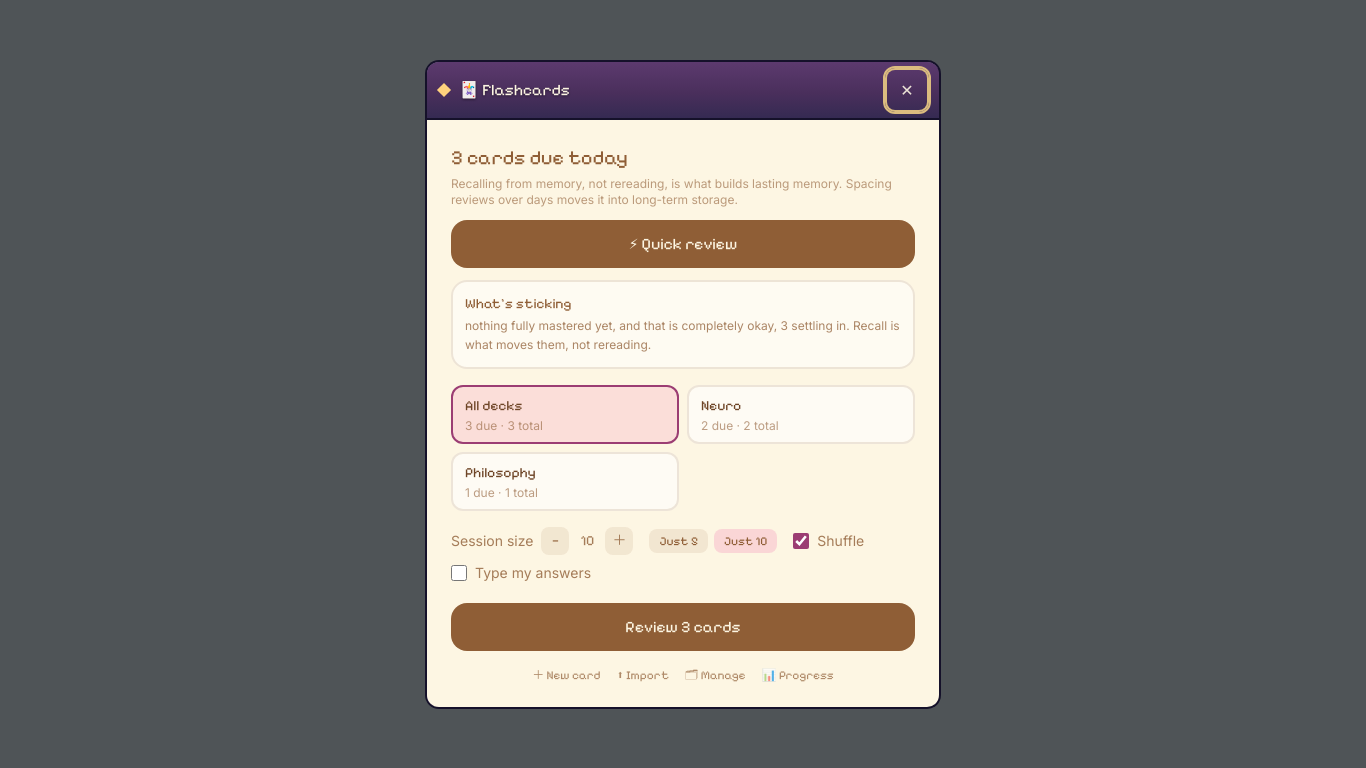
Test: Flashcards — manage view (search, move, delete) + forecast › filters cards by a search query
The width and height of the screenshot is (1366, 768).
Click the button "🗂 Manage". click: click(715, 674)
box: [685, 666, 746, 682]
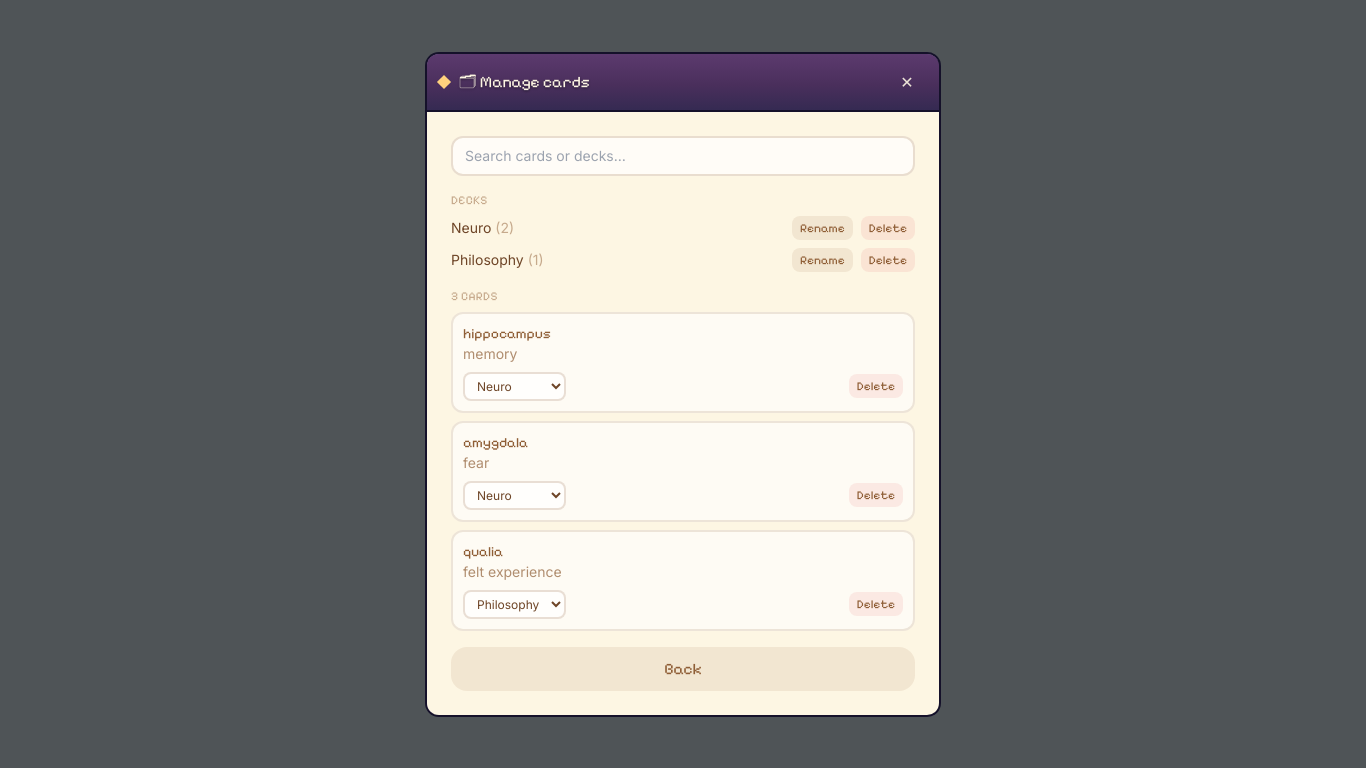
Expected: the text "hippocampus" is shown, [463, 324, 551, 342]
Type "qualia" into the field labelled "Search cards or decks…". click: (683, 156)
box: [451, 136, 915, 176]
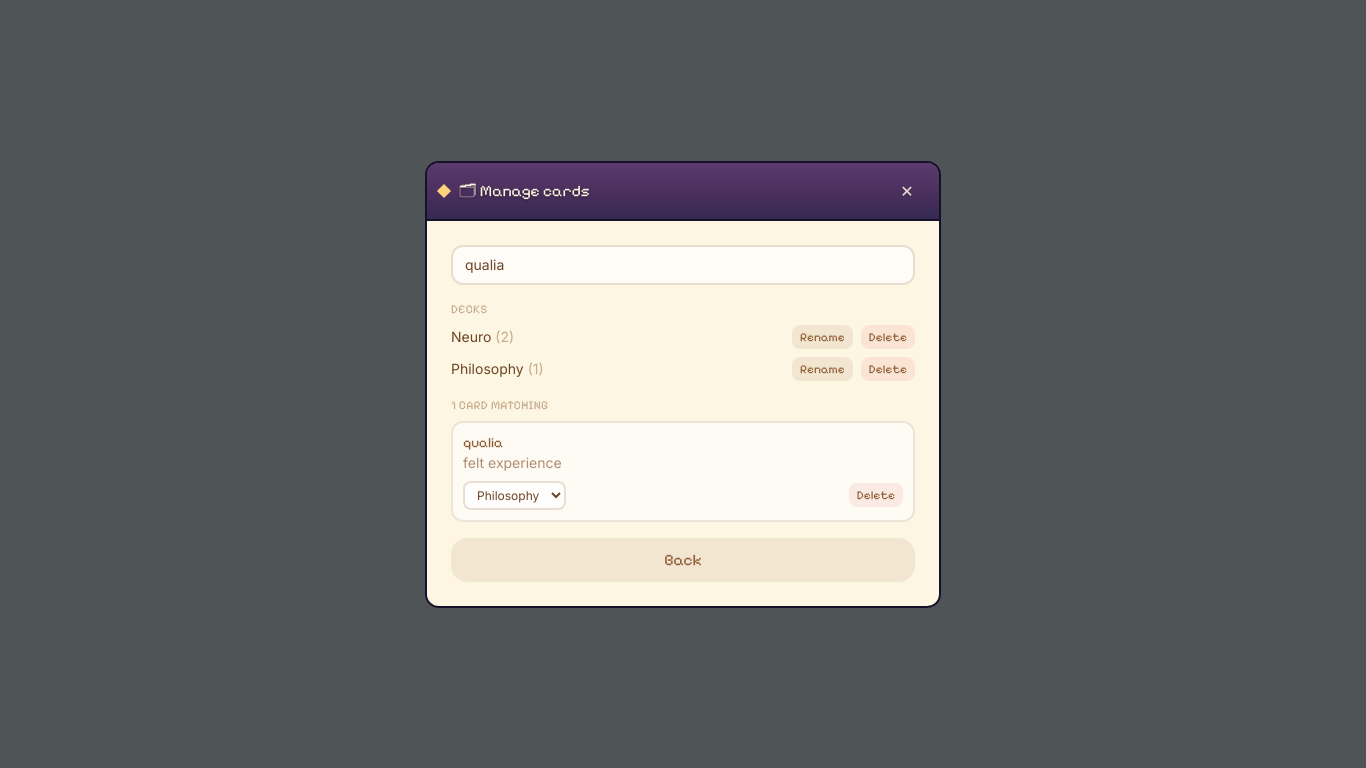
Expected: the text "qualia" is shown, [463, 434, 503, 450]
Expected: the text "hippocampus" is gone
